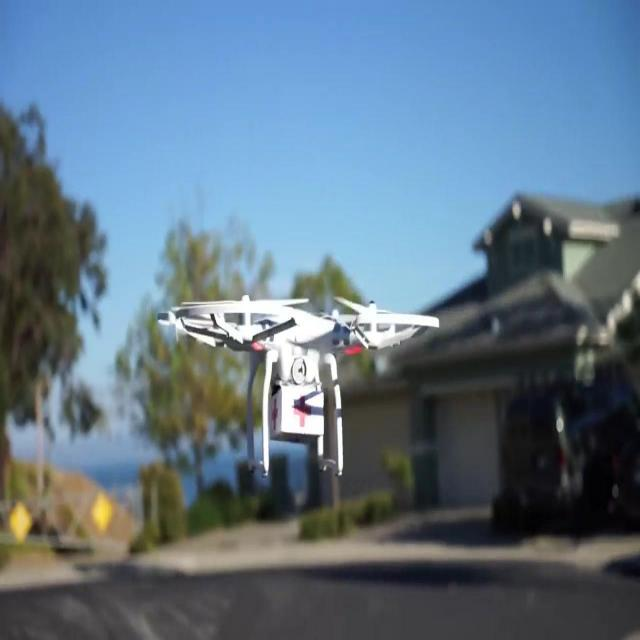UAV: (156, 293, 440, 479)
